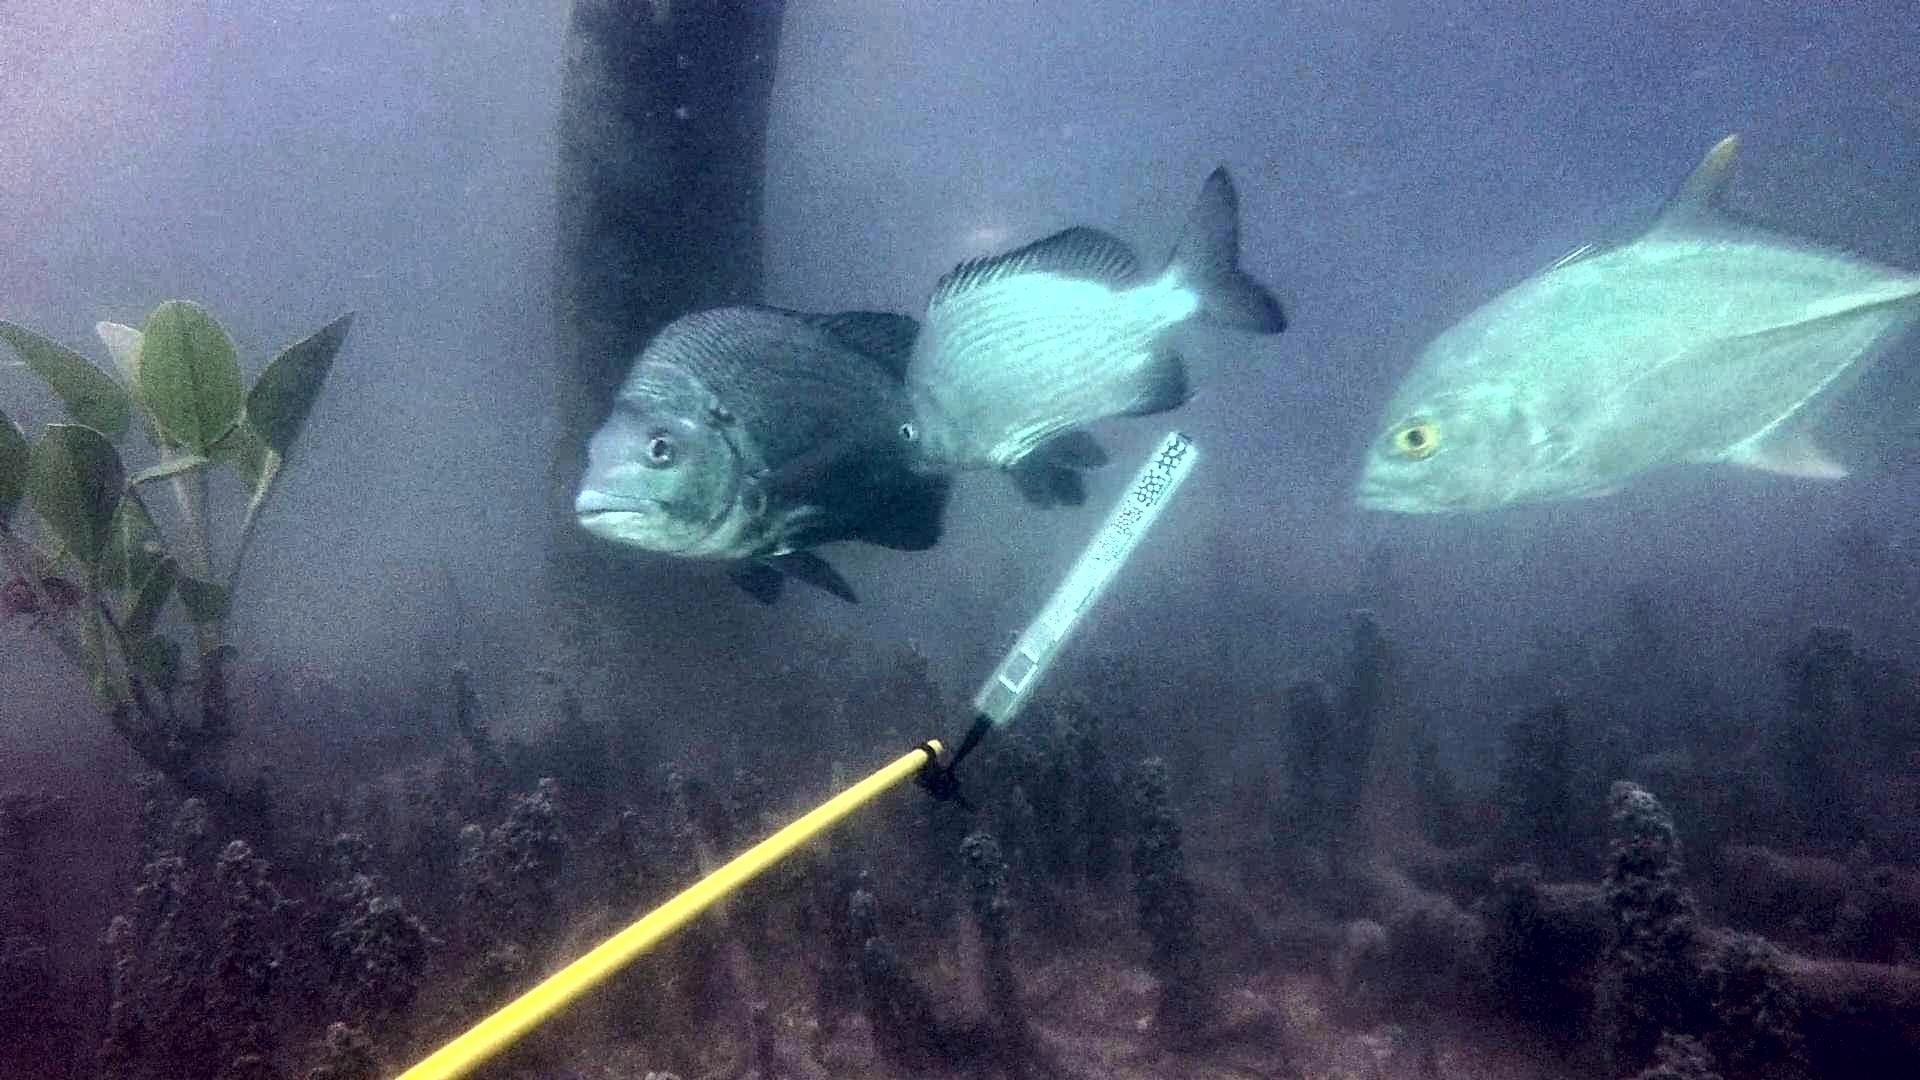acanthopagrus palmaris: (565, 293, 1113, 609), (895, 160, 1295, 505)
caranx: (1350, 118, 1920, 538)
